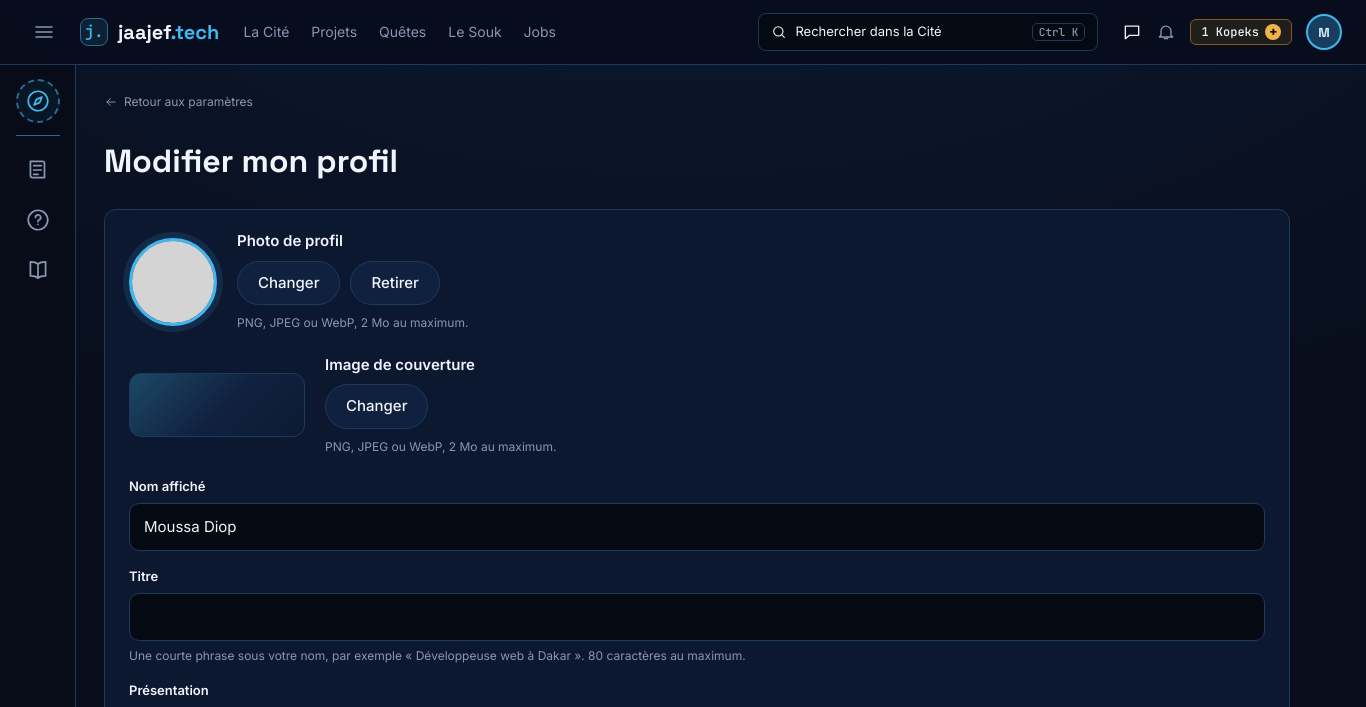
it: Edit profile › removes my picture
Click the button "Retirer".
click(395, 283)  # box x1=350 y1=260 x2=440 y2=305
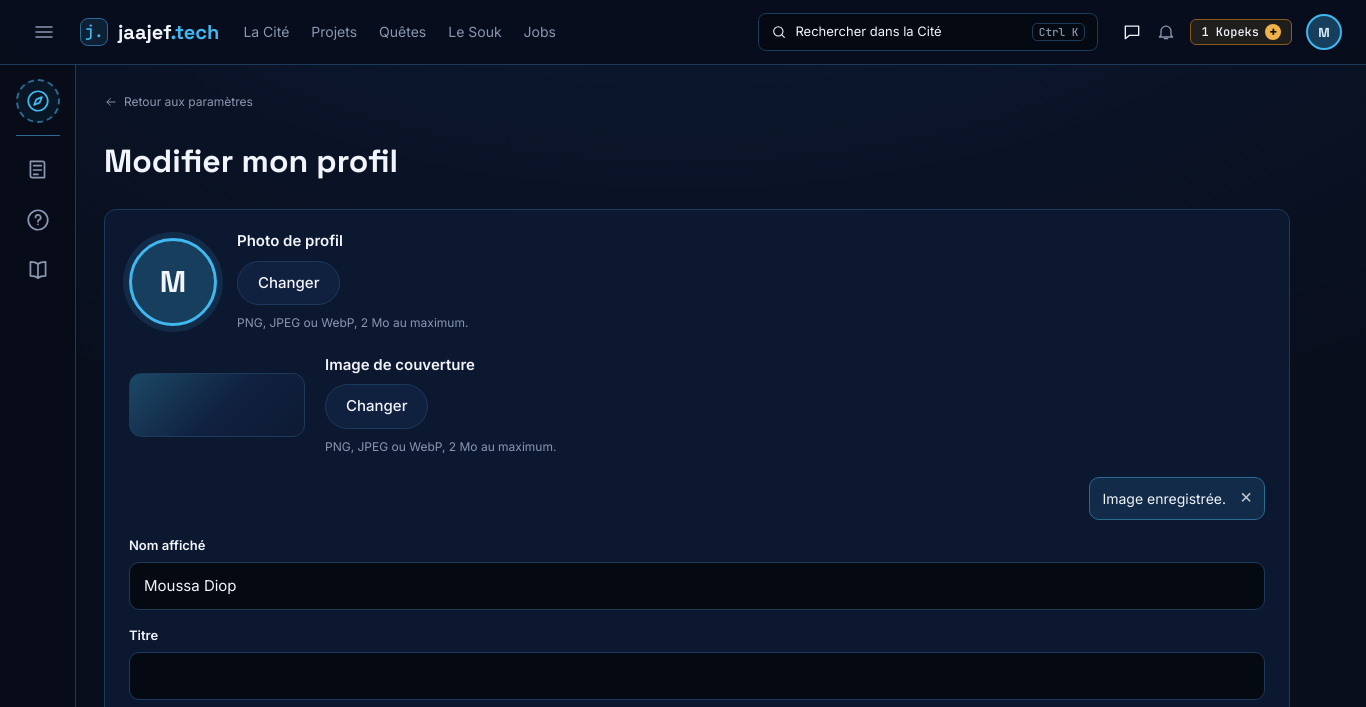
Now the message shows "Image enregistrée", box x1=1102 y1=490 x2=1226 y2=507
